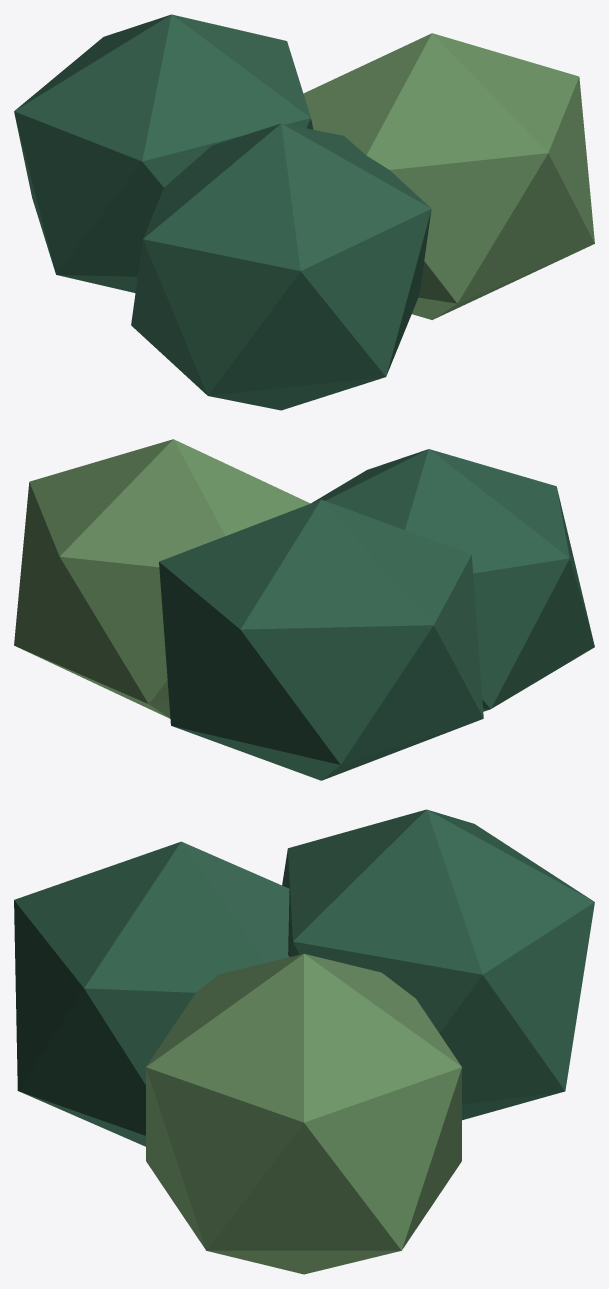
The model's file is PirateCove_Bush_Simple.glb.
3 views of the same model, one above another, from view 1: azimuth 30°, elevation 25°; view 2: azimuth 150°, elevation 25°; view 3: azimuth 270°, elevation 25° (orthographic). The views are drawn at different scales.
Visible parts, largest first — view 1: PirateCove_Bush_Simple; view 2: PirateCove_Bush_Simple; view 3: PirateCove_Bush_Simple.
Boxes of the visible parts, x1,y1,x2,y2 form: PirateCove_Bush_Simple: (14, 14, 594, 410); PirateCove_Bush_Simple: (14, 439, 594, 780); PirateCove_Bush_Simple: (14, 809, 594, 1274).
Size of the model in its own units: 1.44 by 0.88 by 1.31.
